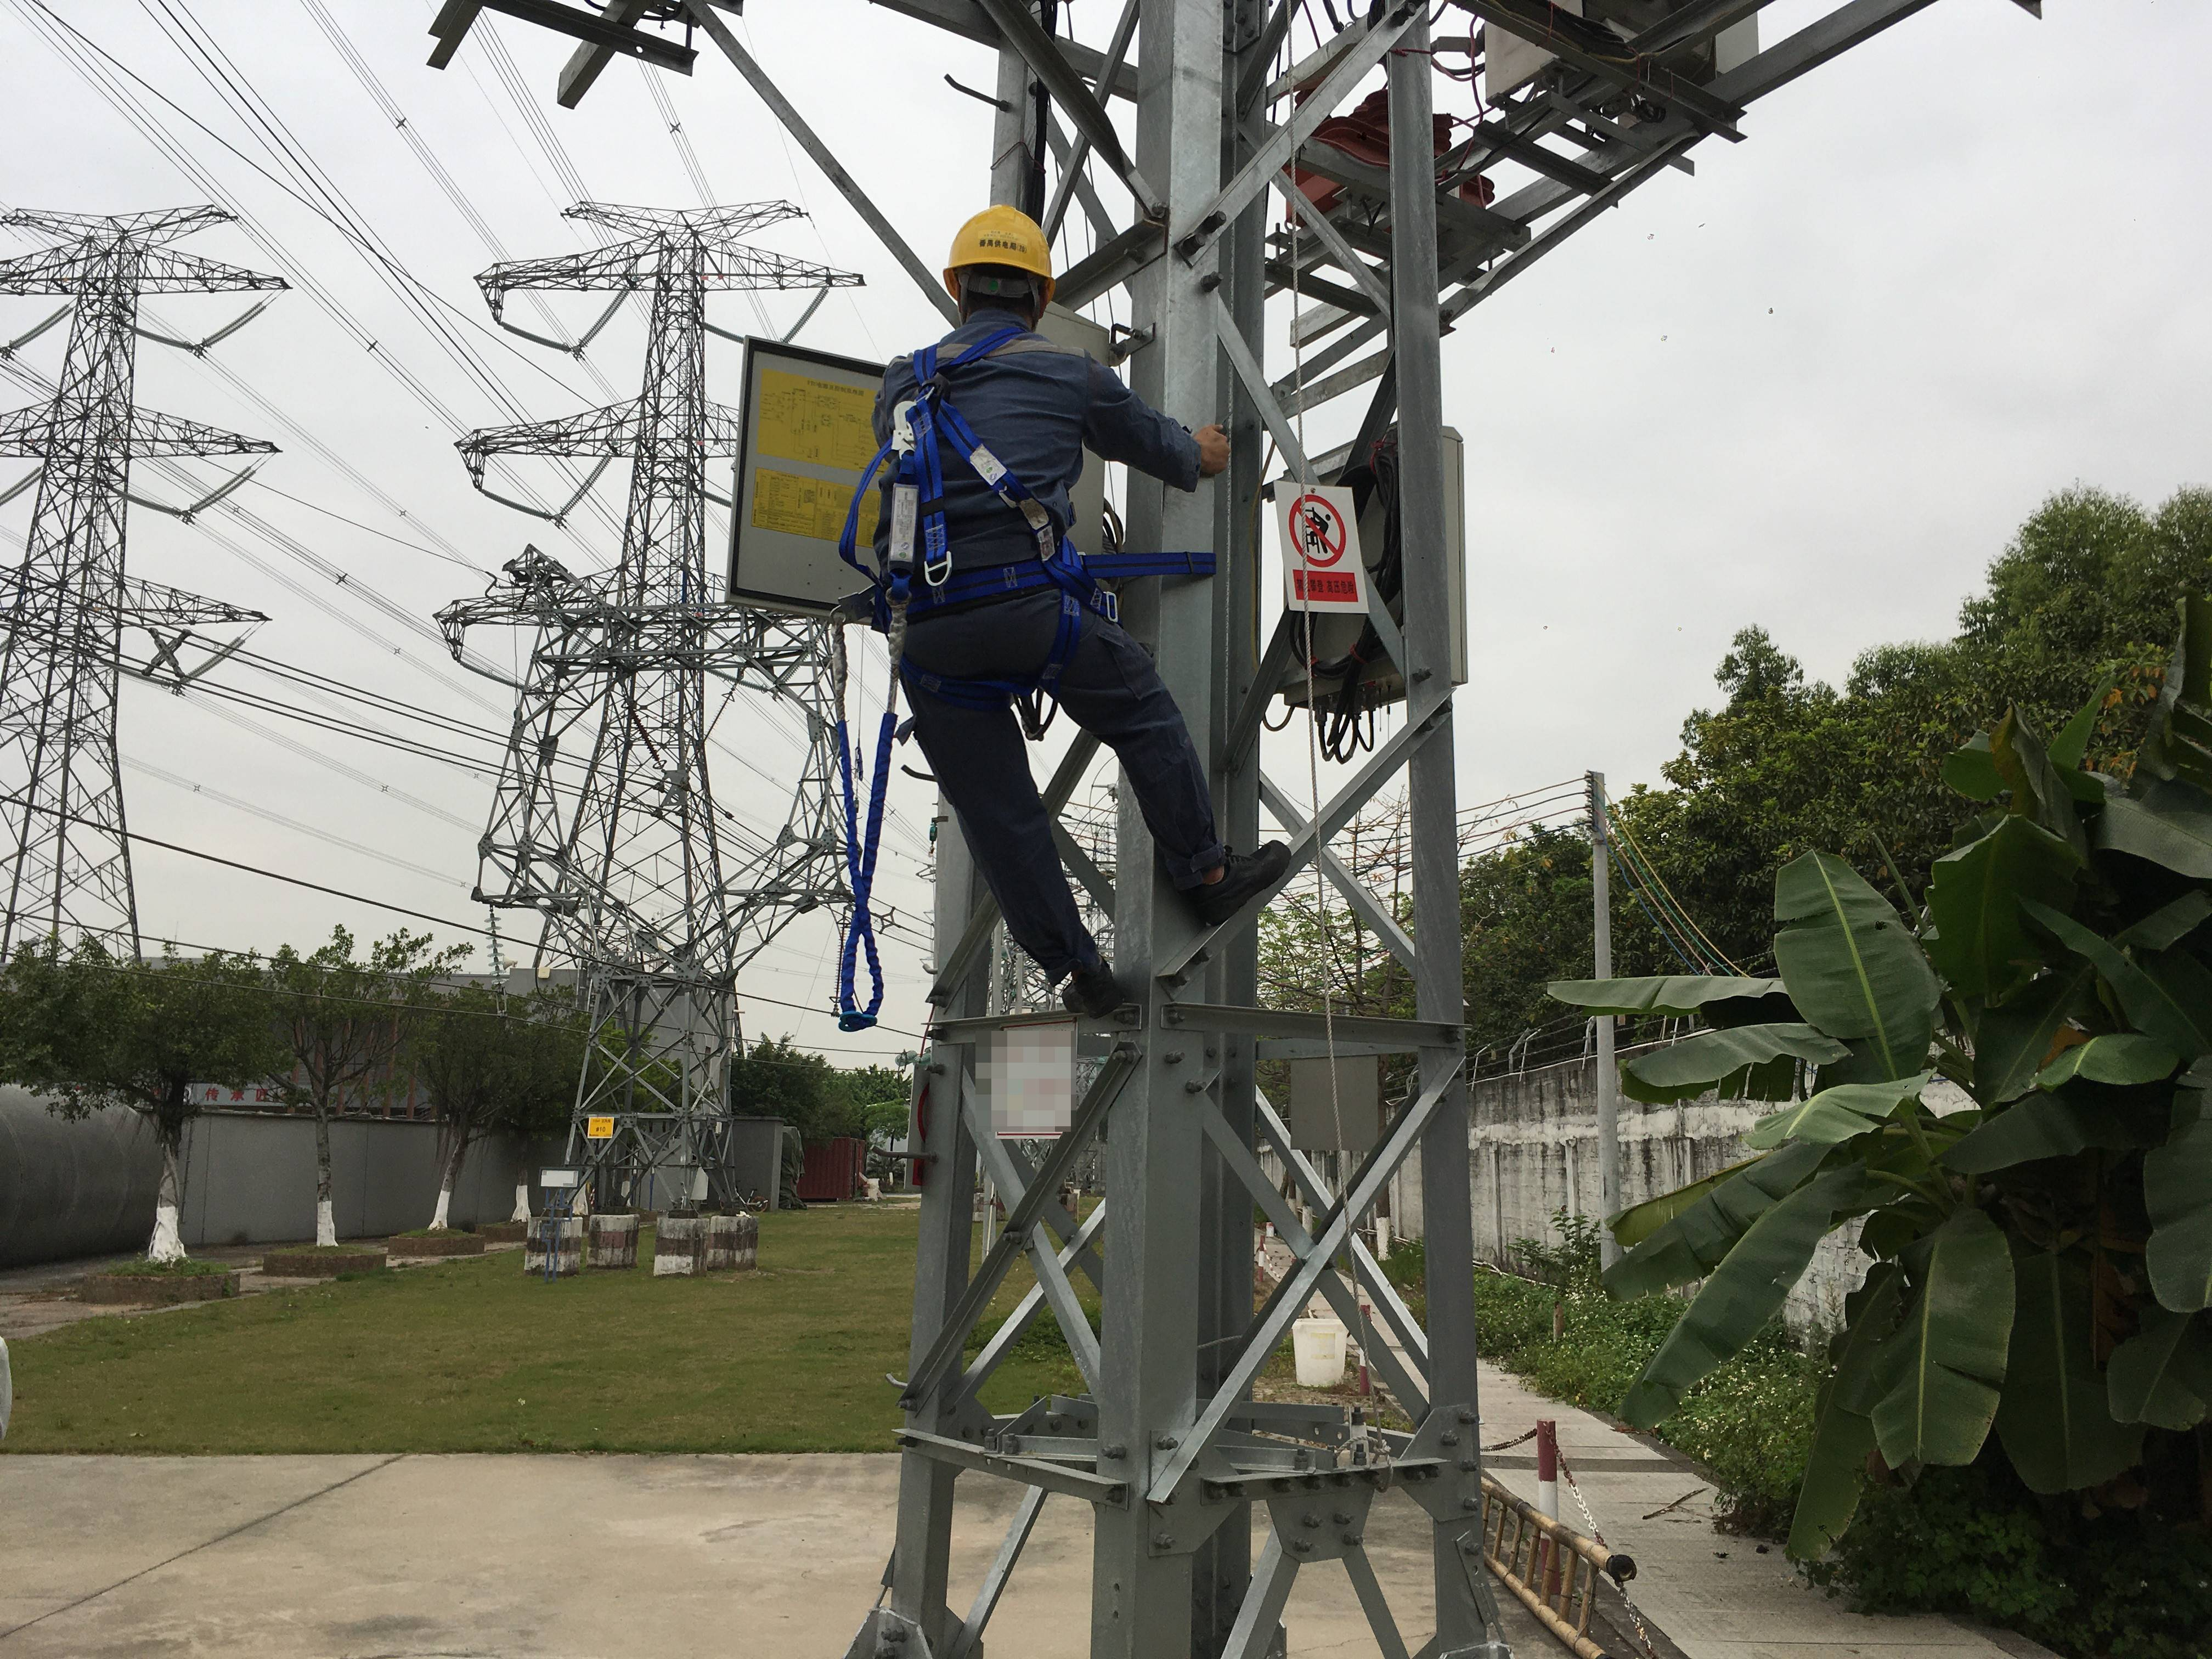downsuit: (894, 587, 1221, 969)
upsuit: (873, 331, 1153, 572)
